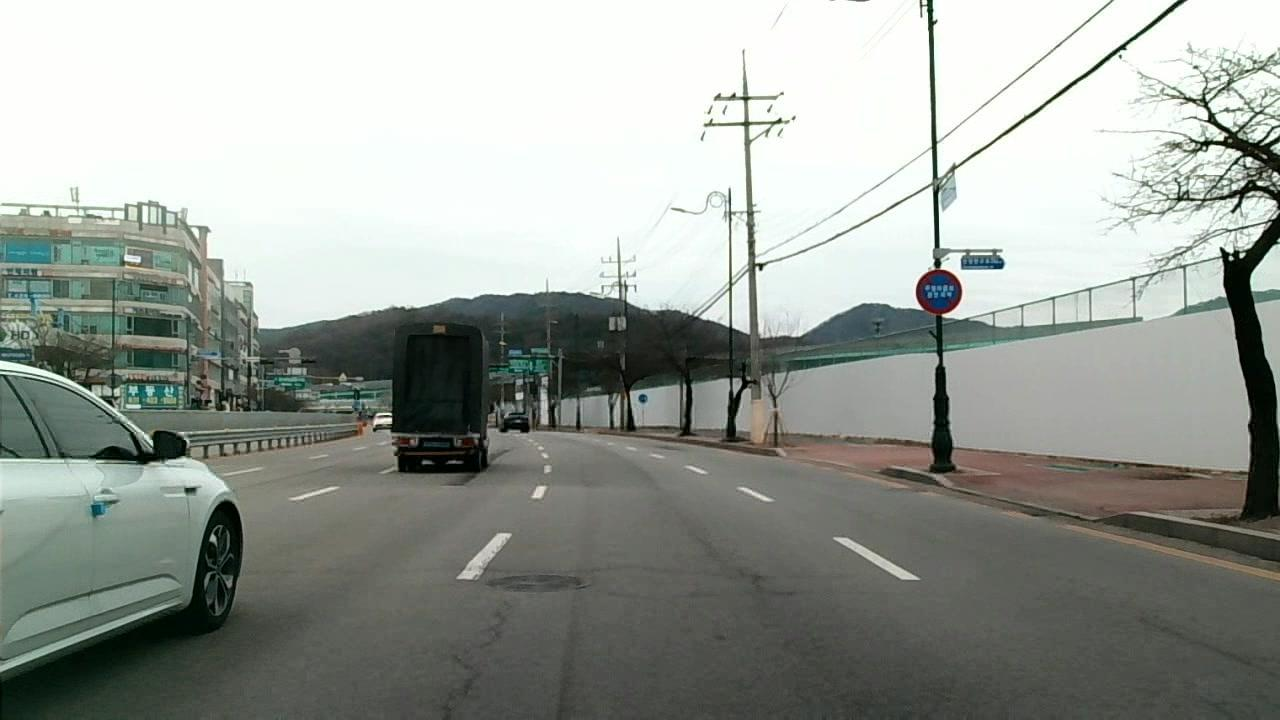vcrack: (435, 593, 518, 718), (1140, 619, 1262, 671), (709, 551, 783, 593)
